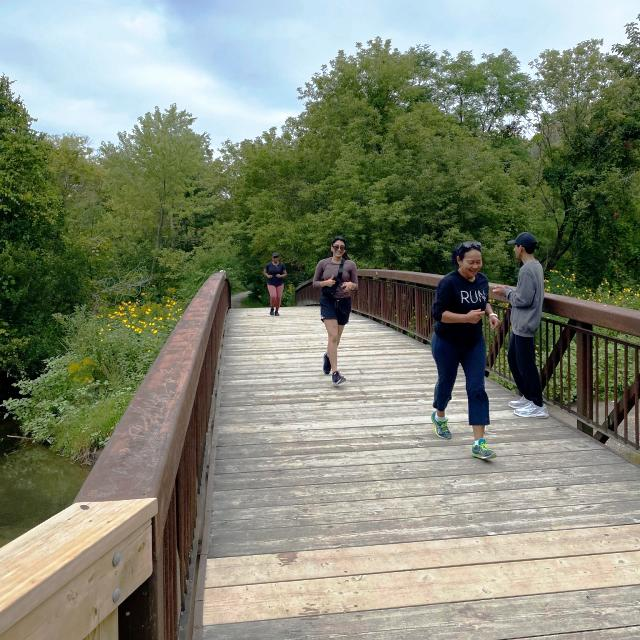other_gesture: (479, 303, 501, 329), (513, 243, 531, 264)
